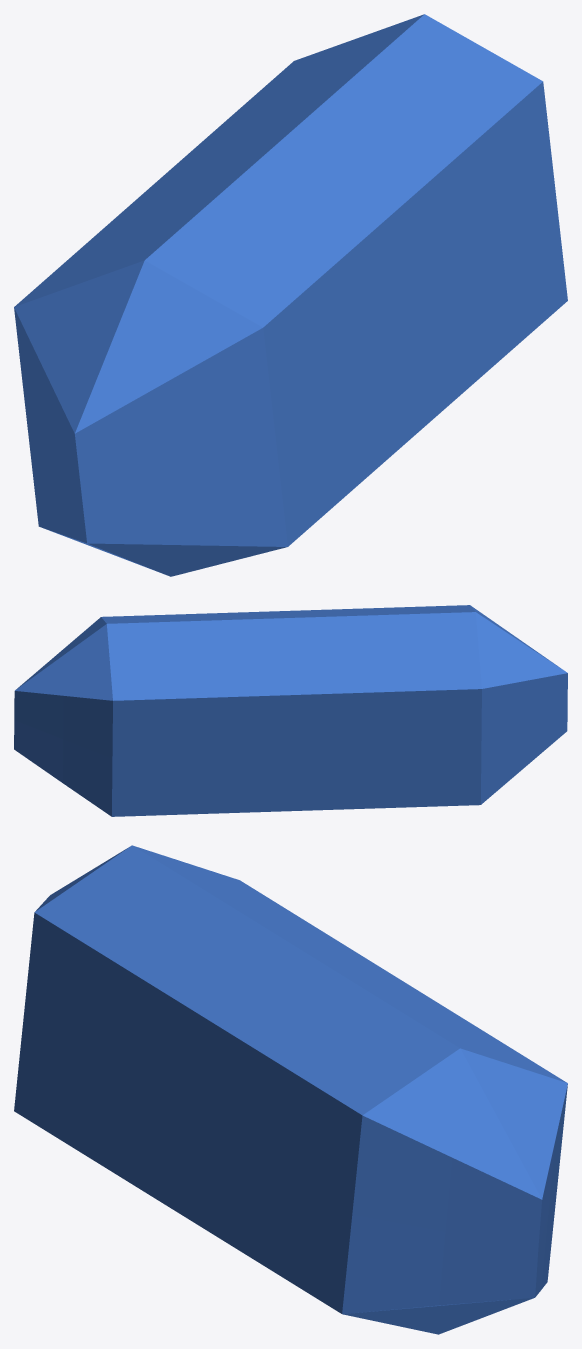
3 renders of one model, top to bottom at view 1: azimuth 30°, elevation 25°; view 2: azimuth 150°, elevation 25°; view 3: azimuth 270°, elevation 25°, orthographic. The views are drawn at different scales.
Parts seen in each view (by area): view 1: Cube; view 2: Cube; view 3: Cube.
Part boxes in pixels (x1,y1,x2,y2): Cube: (14,14,567,576); Cube: (14,605,567,816); Cube: (14,845,567,1334).
Size of the model in its own units: 284 by 121 by 217.
